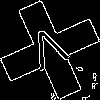V: (25, 25, 75, 80)
